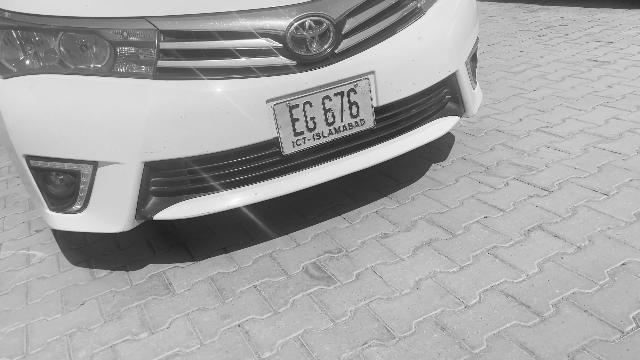Number: (282, 86, 367, 140)
